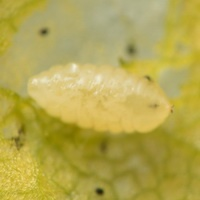insect: (28, 63, 170, 131)
